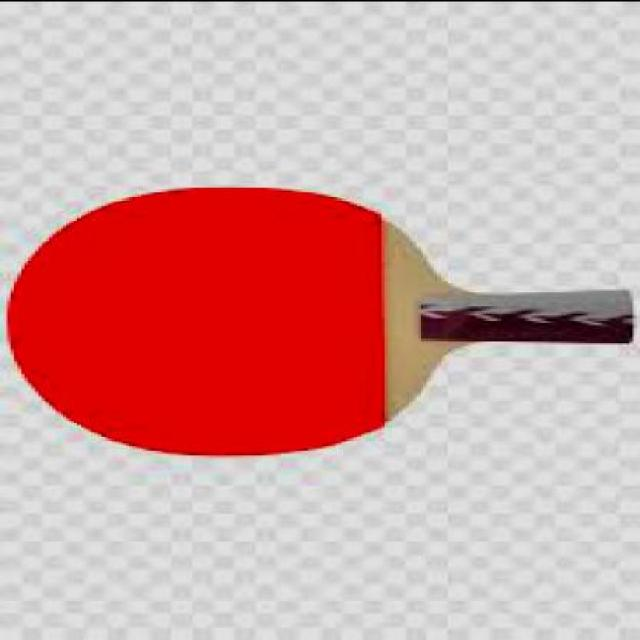table_tennis_racket: (3, 182, 459, 461)
